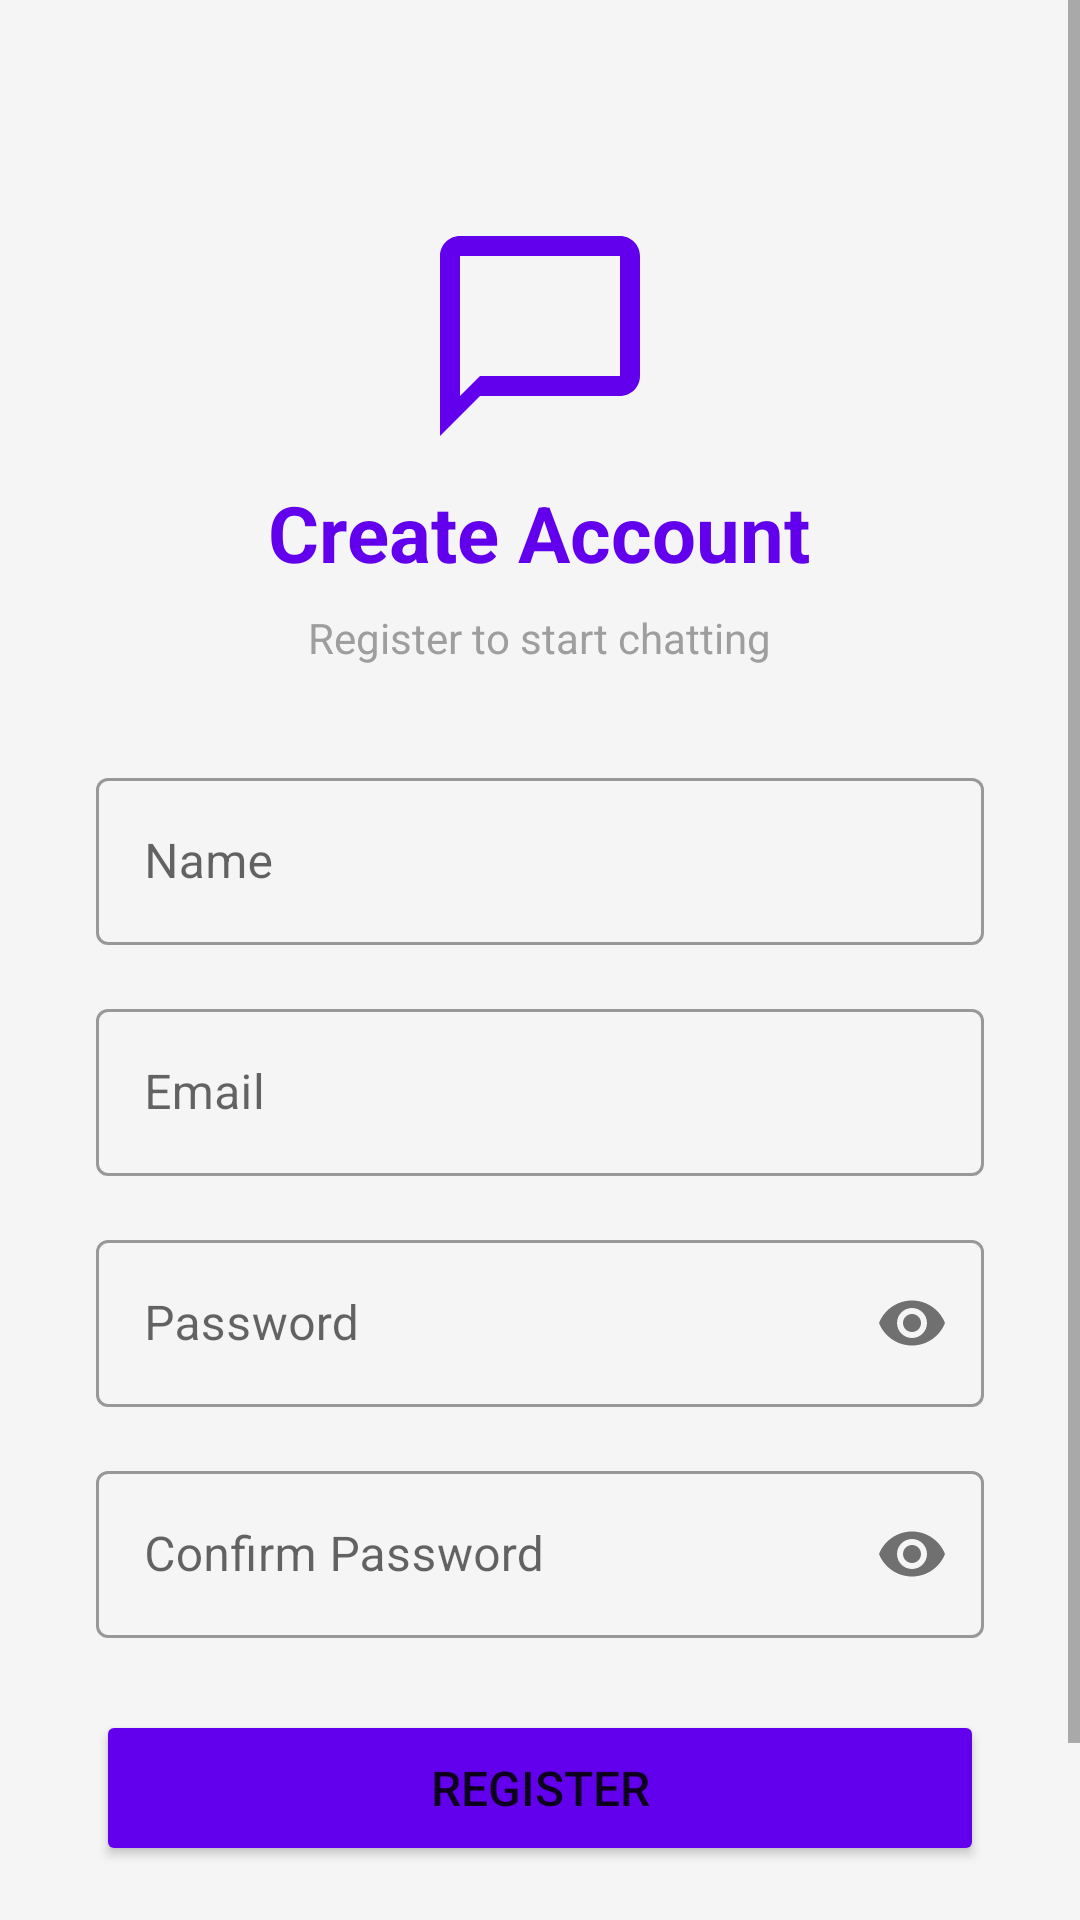

Screen size 1080px×1920px. Icon name, then its box in pixels as [left=x1, top=y1, right=x2, bottom=y2]:
chat bubble: [left=440, top=236, right=640, bottom=436]
